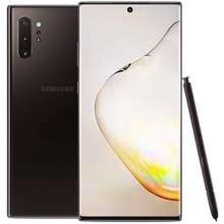phone: (75, 0, 186, 224), (5, 1, 113, 221)
